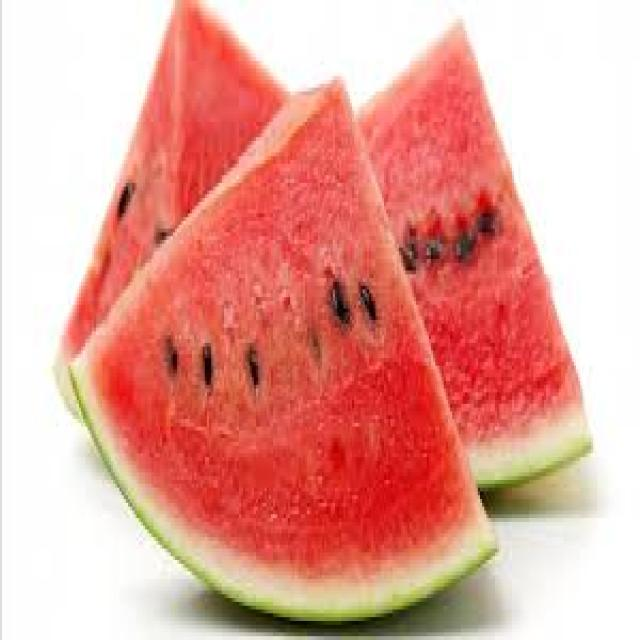watermelon: (64, 68, 499, 624), (352, 16, 593, 492), (51, 0, 290, 423)
